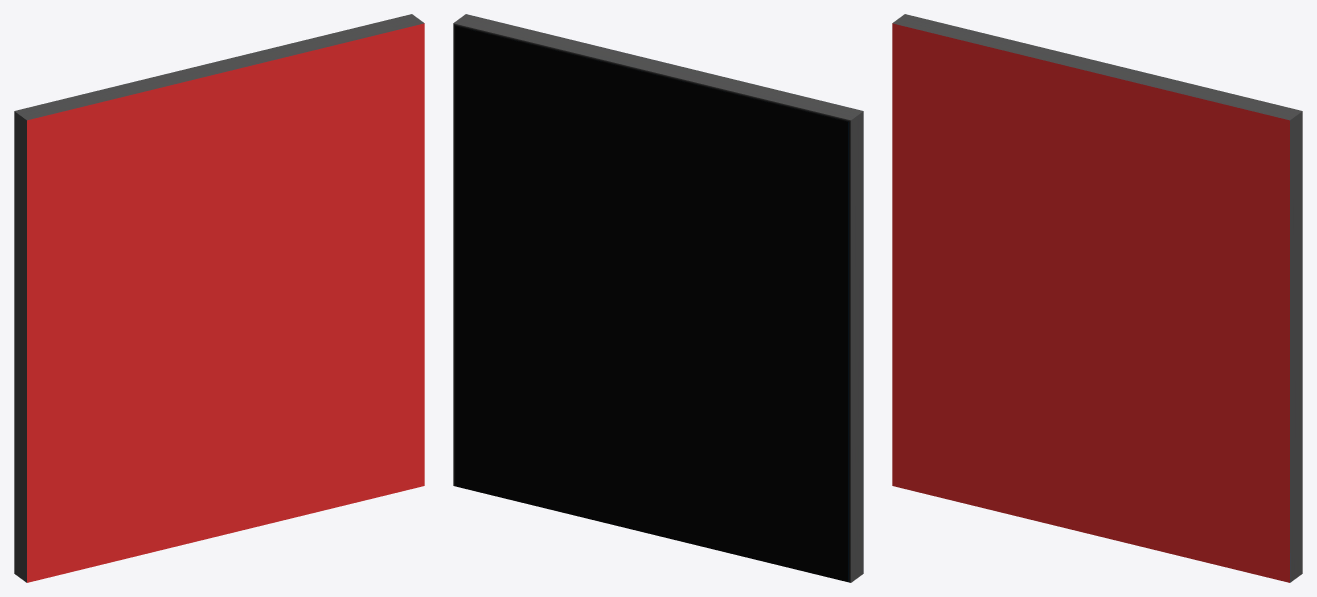
The model's file is Environment Items.dae.
3 views of the same model, side by side, from view 1: azimuth 30°, elevation 25°; view 2: azimuth 150°, elevation 25°; view 3: azimuth 330°, elevation 25° (orthographic).
Parts seen in each view (by area): view 1: Simple_Wall; view 2: Simple_Wall; view 3: Simple_Wall.
Boxes of the visible parts, x1,y1,x2,y2 form: Simple_Wall: [14, 14, 424, 582]; Simple_Wall: [453, 14, 863, 582]; Simple_Wall: [892, 14, 1302, 582].
Size of the model in its own units: 0.9 by 1 by 0.05.
Materials: 1 (1 with a texture image).
